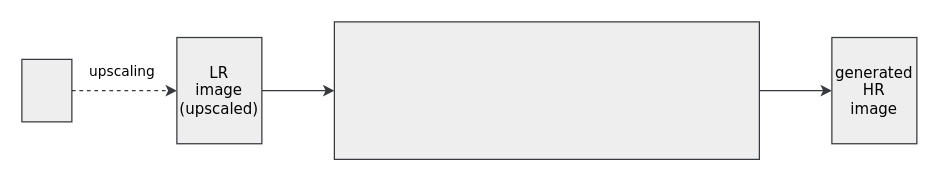
Some shapes in this 939 by 181 pixel diagram are drawn without their labels. Here are the shapes that lost their labels. From the top down, the centre of each, then its label:
At [46,90]: "LR image".
At [546,90]: "Neural Network".
